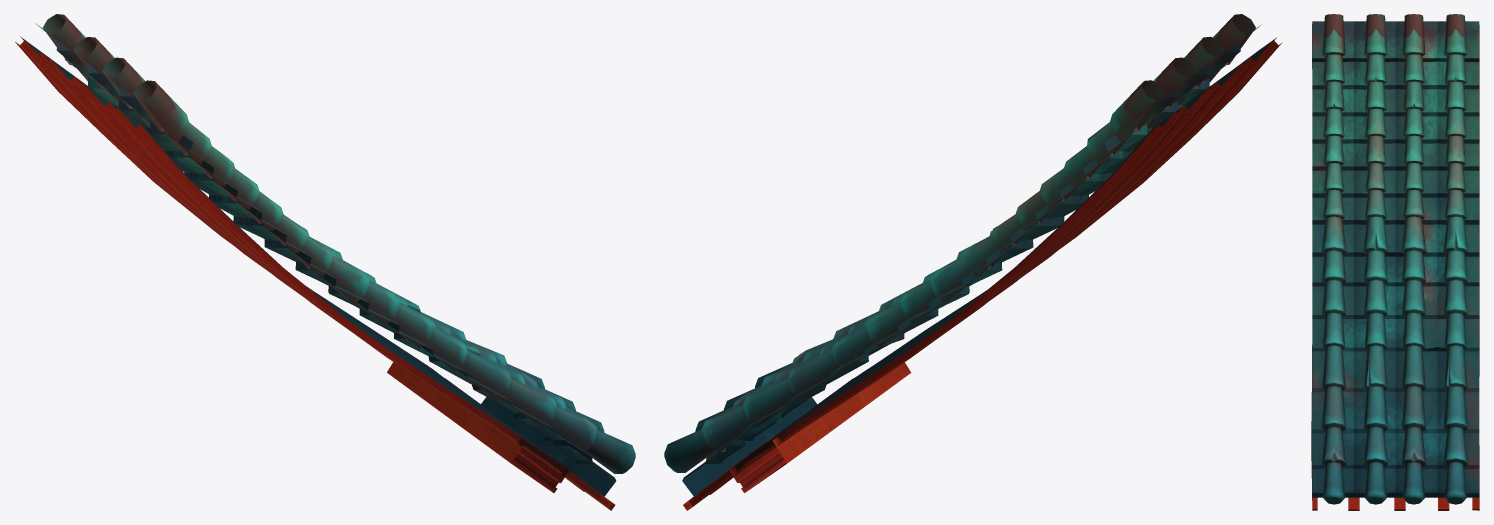
File: SM_Roof3x1.glb
3 views of the same model, side by side, from view 1: azimuth 30°, elevation 25°; view 2: azimuth 150°, elevation 25°; view 3: azimuth 270°, elevation 25° (orthographic). The views are drawn at different scales.
Visible parts, largest first — view 1: SM_Roof3x1_LOD0; view 2: SM_Roof3x1_LOD0; view 3: SM_Roof3x1_LOD0.
Part boxes in pixels (x1,y1,x2,y2): SM_Roof3x1_LOD0: (15, 14, 635, 510); SM_Roof3x1_LOD0: (664, 14, 1282, 510); SM_Roof3x1_LOD0: (1311, 14, 1479, 510).
Size of the model in its own units: 2.36 by 2.33 by 1.01.
Materials: 1 (1 with a texture image).
